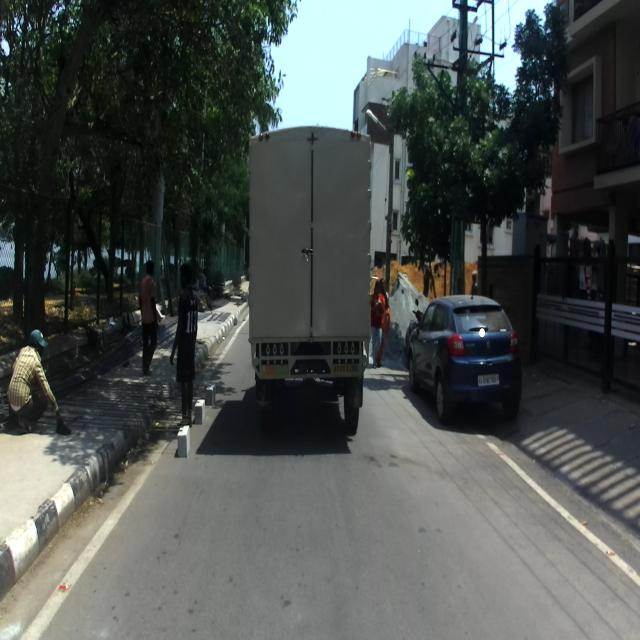car ahead at: (407, 293, 527, 432)
person ahead at: (5, 328, 67, 435), (170, 254, 203, 421)
truck ahead at: (247, 127, 372, 432)
